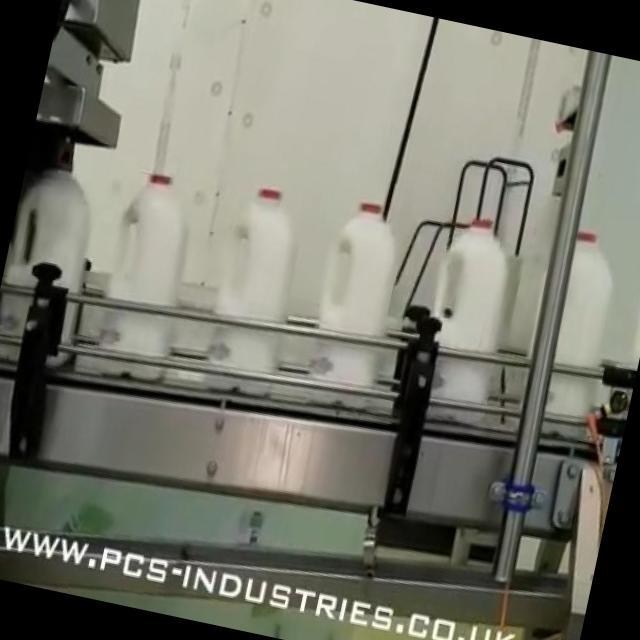red: (400, 207, 530, 443), (186, 176, 326, 394), (288, 193, 420, 414), (86, 164, 216, 375), (514, 226, 639, 434), (0, 149, 118, 357)
